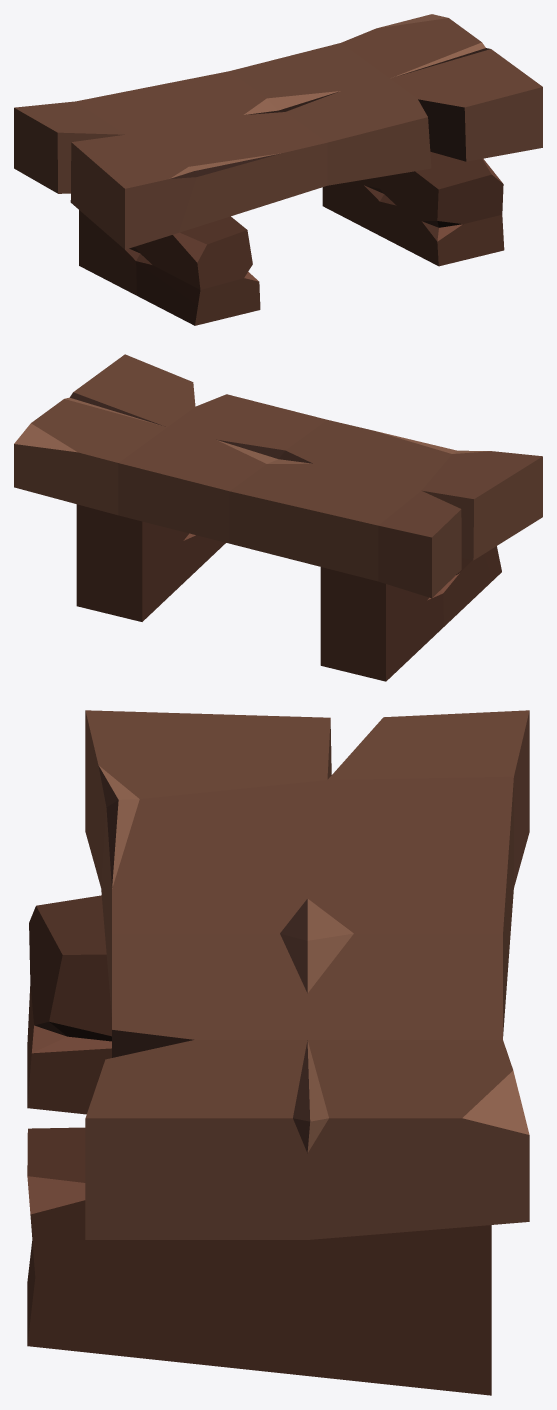
File: Shelf_03.glb
3 renders of one model, top to bottom at view 1: azimuth 30°, elevation 25°; view 2: azimuth 150°, elevation 25°; view 3: azimuth 270°, elevation 25°, orthographic. The views are drawn at different scales.
Visible parts, largest first — view 1: Shelf_03; view 2: Shelf_03; view 3: Shelf_03.
Boxes of the visible parts, left/top/right/bottom form: Shelf_03: left=14, top=14, right=542, bottom=325; Shelf_03: left=14, top=354, right=542, bottom=681; Shelf_03: left=27, top=710, right=529, bottom=1395.
Size of what is drawn, in the model's own units: 1.98 by 0.7456 by 1.03.
1 material, 1 textured.
